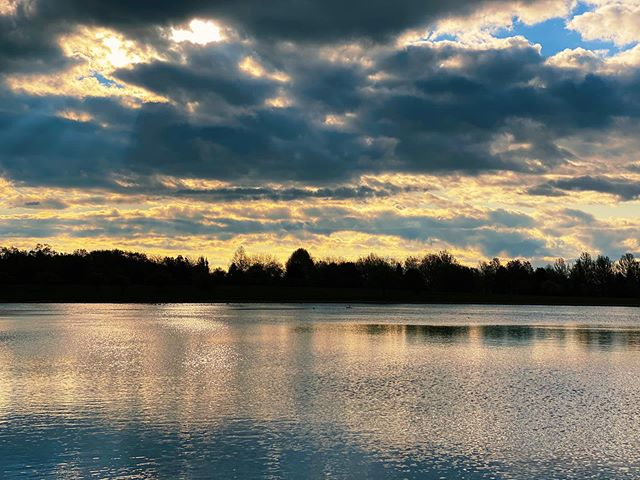sea: (1, 302, 640, 480)
sky: (1, 1, 640, 241)
vegetation: (2, 244, 640, 303)
